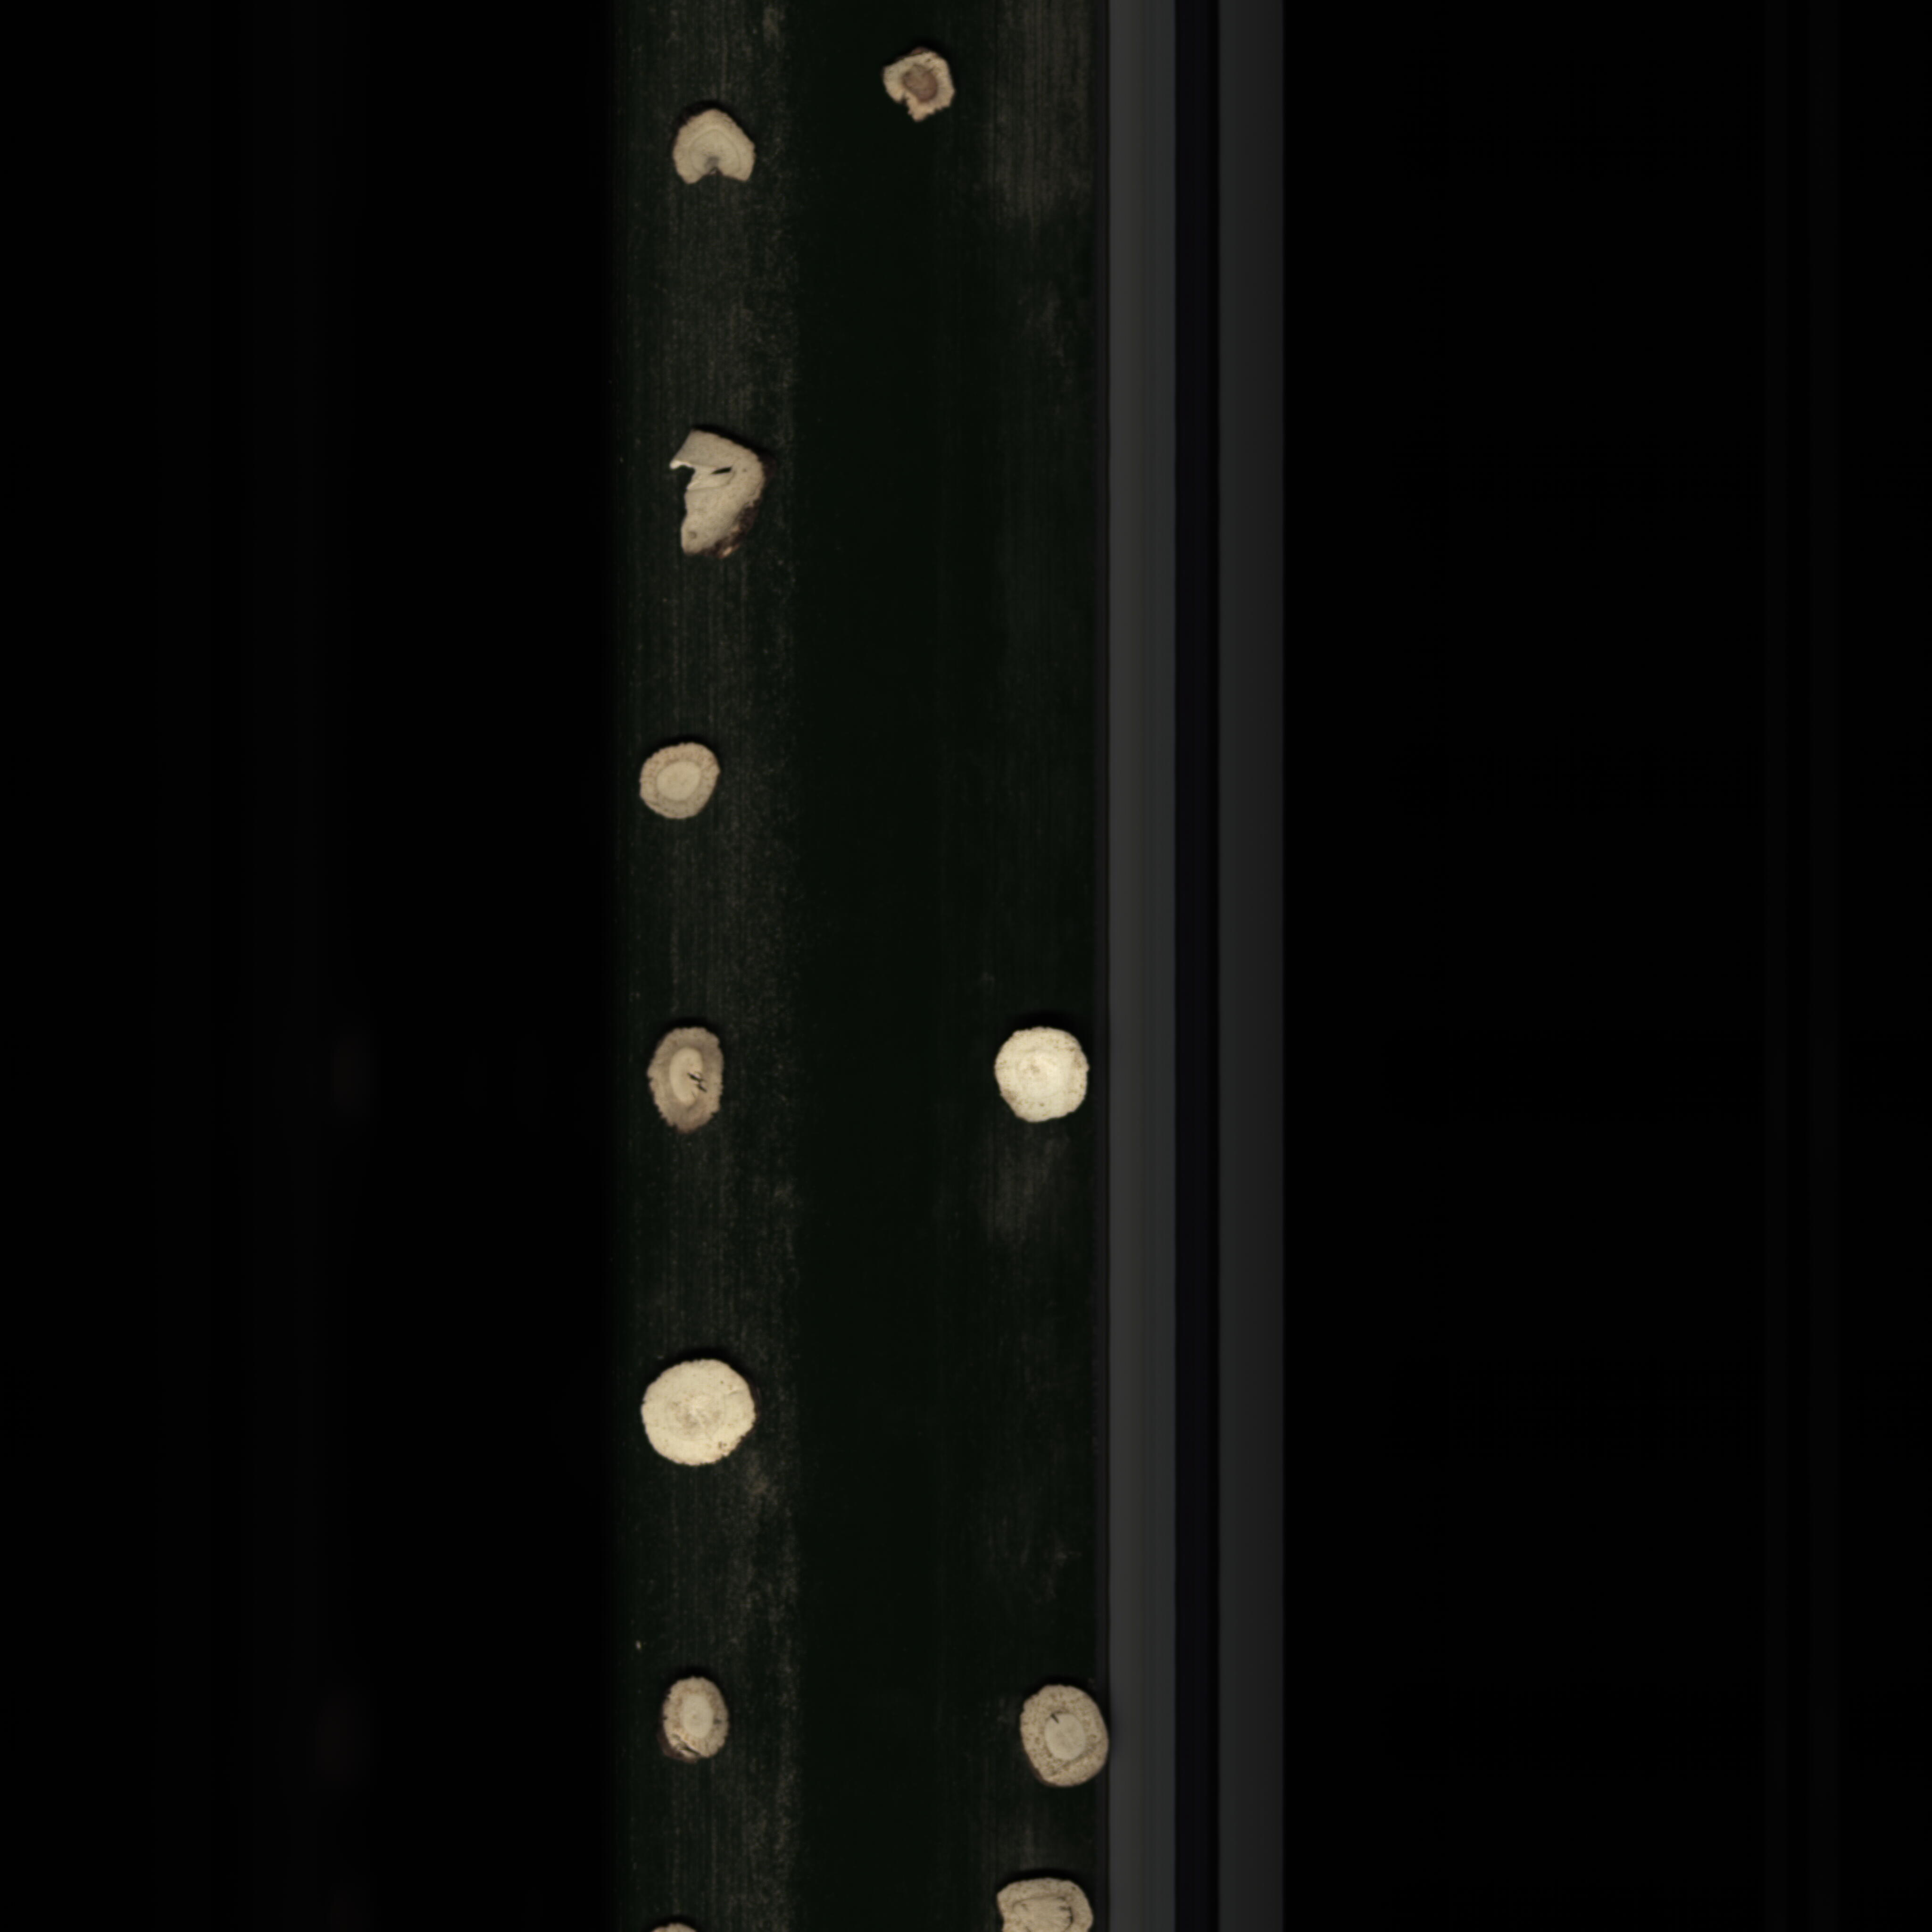debris: (663, 423, 771, 575), (653, 101, 768, 195)
hole: (655, 1665, 732, 1767)
moldy: (646, 1012, 727, 1146), (878, 46, 966, 126)
